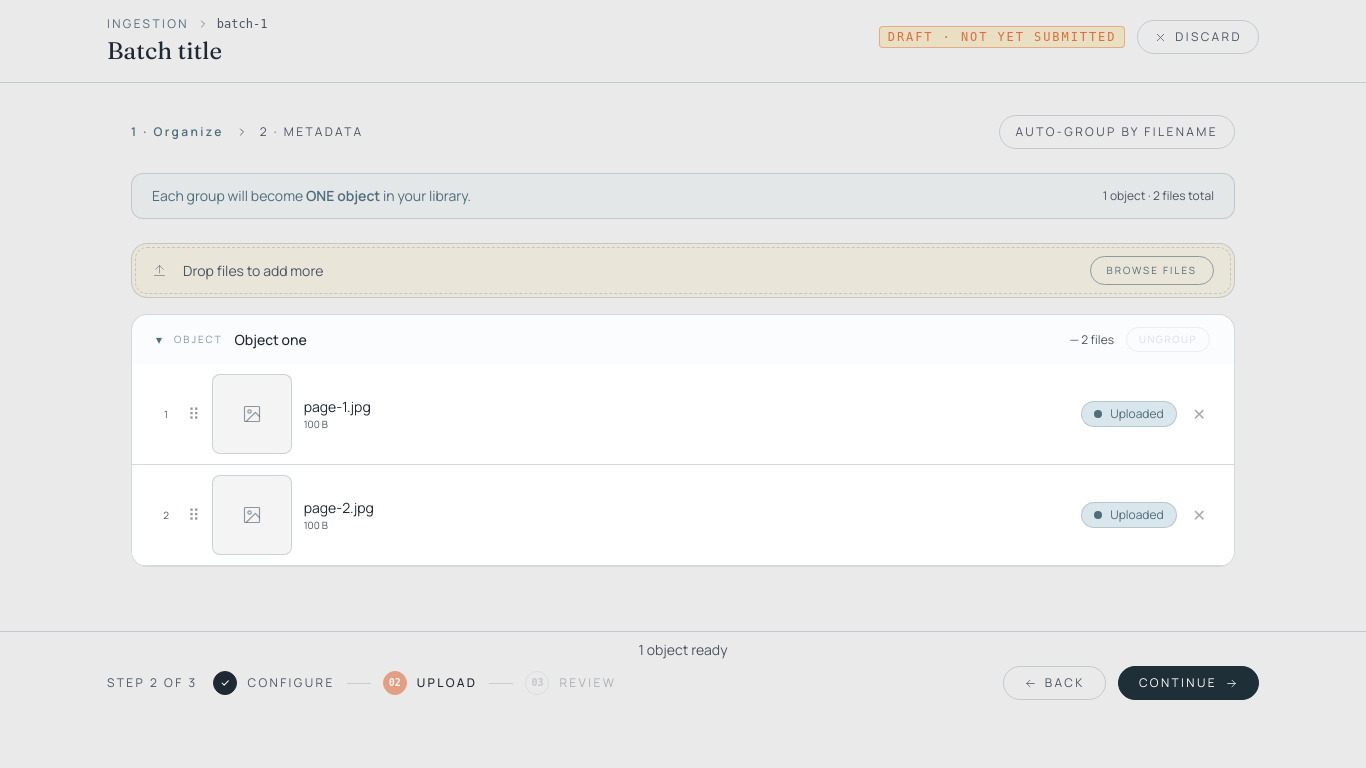
Test: /ingestion/[batchId]/setup +page.svelte › keeps grouped card headers as a single expansion control
What coordinates should you click on to do the following:
click the button "Continue"
I would click on:
 (1188, 683)
Its box is [1118, 666, 1259, 700].
(page scrolled)
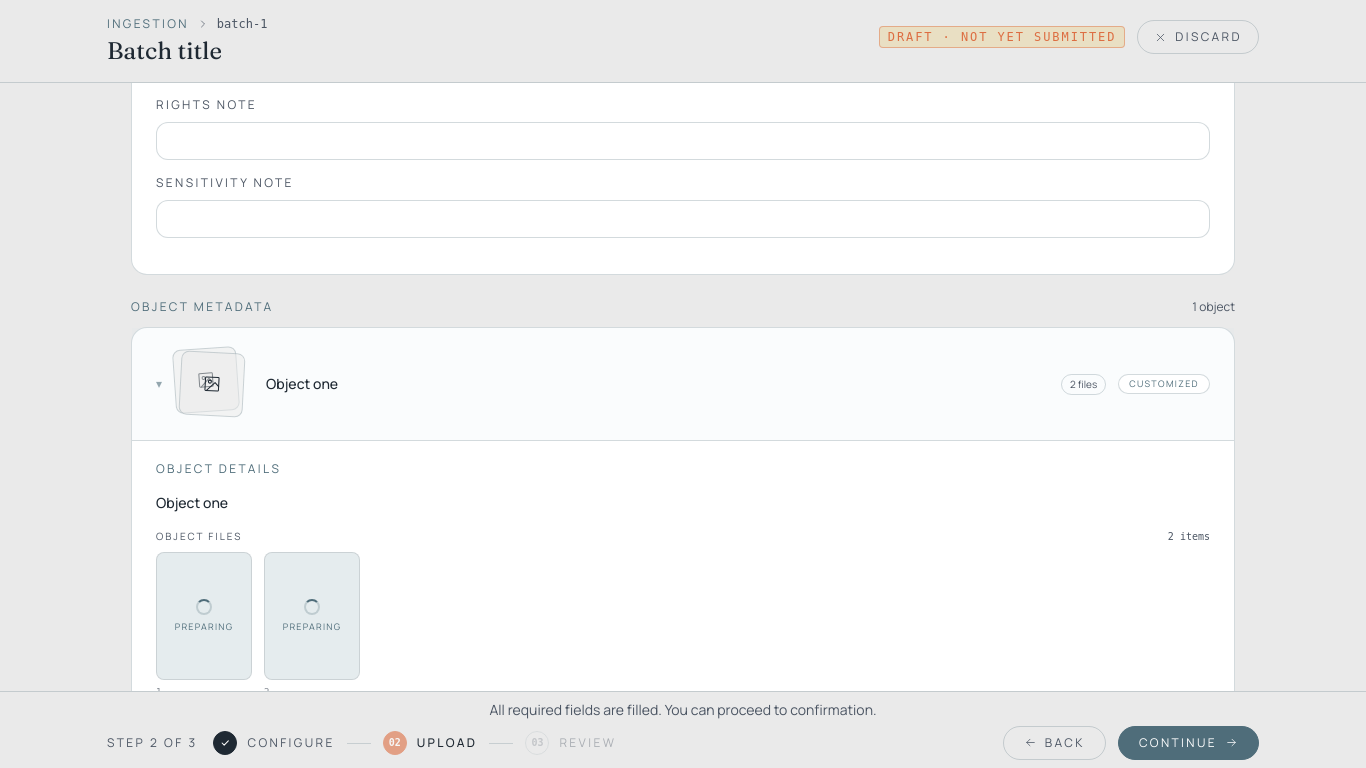
Check: the button "▾ Object one 2 files Customized" is shown, box [132, 328, 1234, 440]
